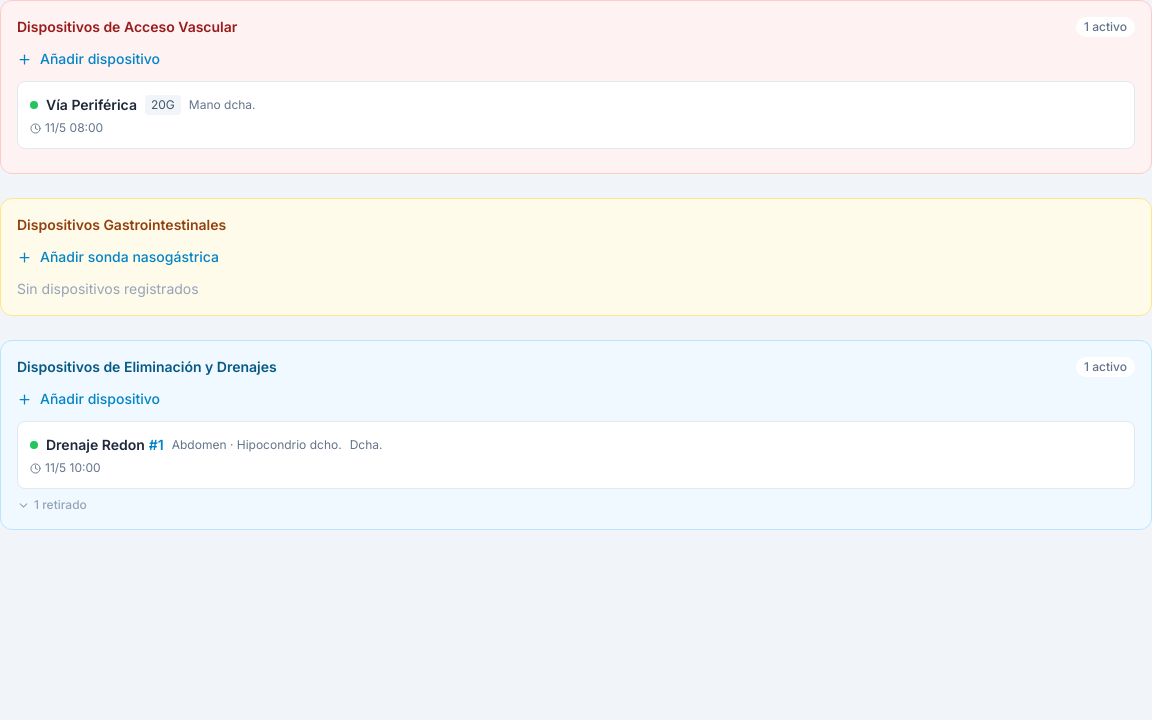
DevicesTab › abre modal al hacer clic en añadir
// Click the first add button (vascular section)
Click the button "Añadir dispositivo" below "Dispositivos de Acceso Vascular". click: (89, 59)
box: [17,49,160,69]
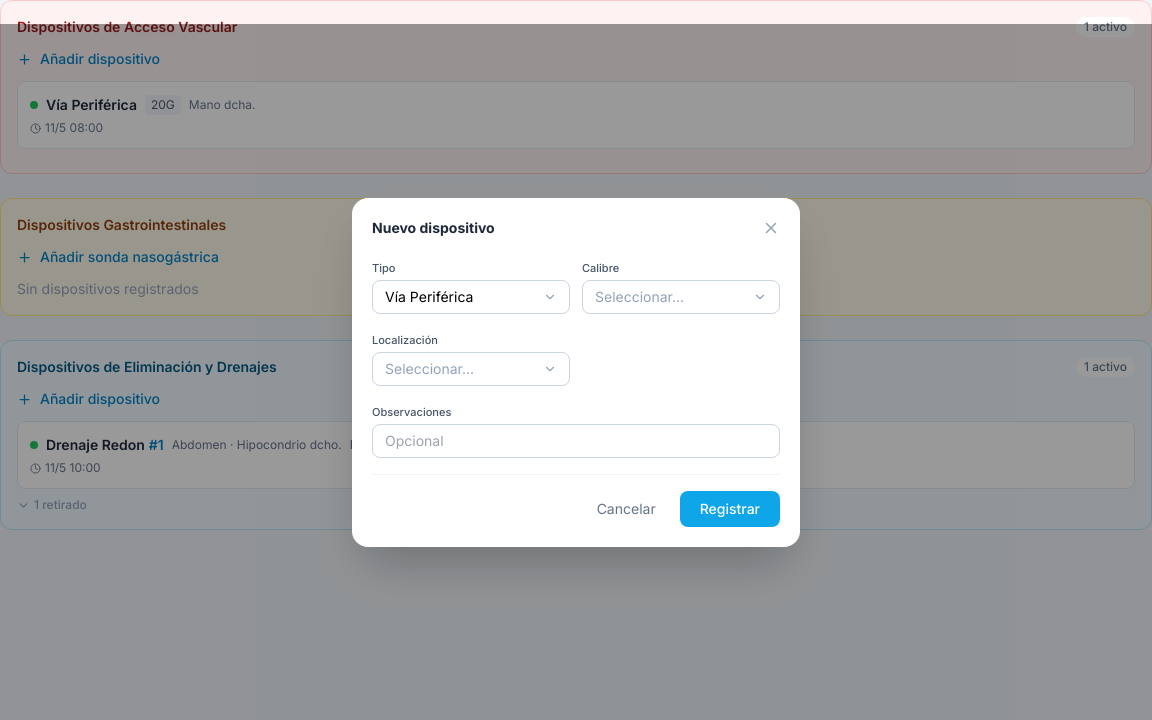
expect the heading "Nuevo dispositivo" is shown: met, box [372,218,495,238]
expect the button "Registrar" is shown: met, box [680,490,780,526]
